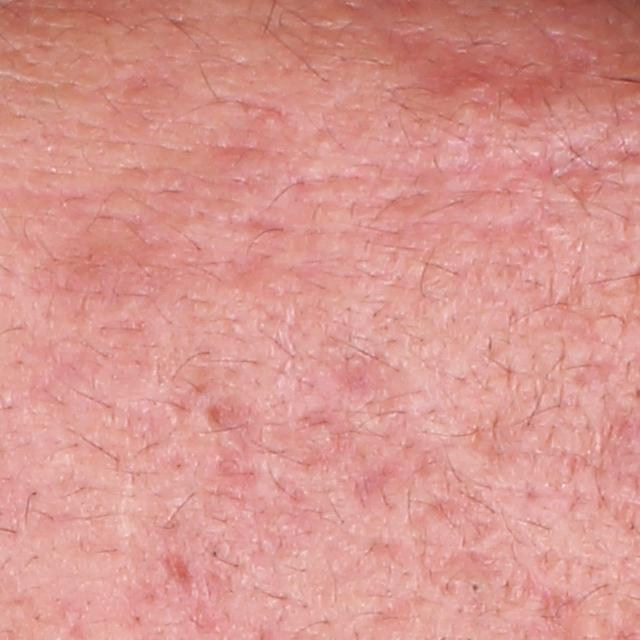atrophic_scar: (368, 17, 620, 115), (517, 573, 580, 623), (161, 545, 197, 599)
comedo: (467, 579, 484, 596)
